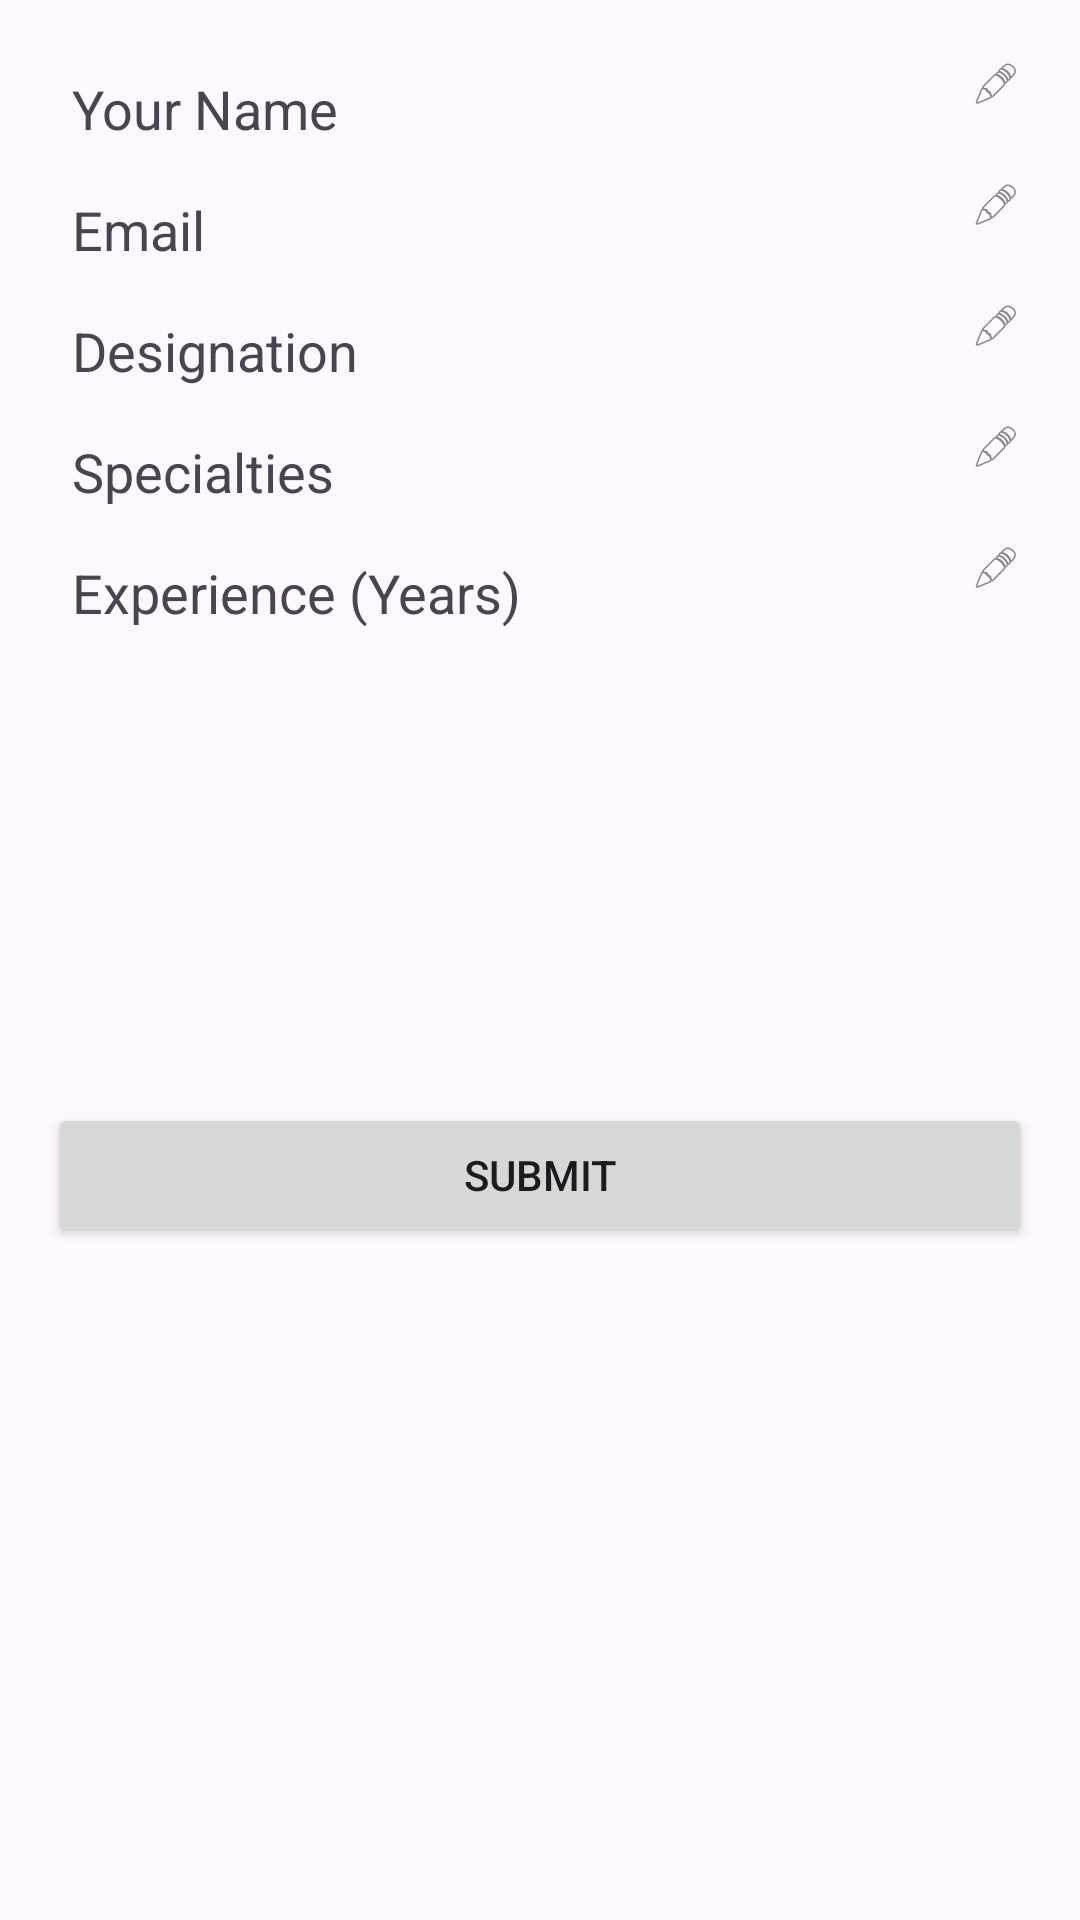

Icons on this 1080x1920 Android screen, each with the point to tap as (x,y):
edit: (995,83), (995,204), (995,325), (995,446), (995,567)
